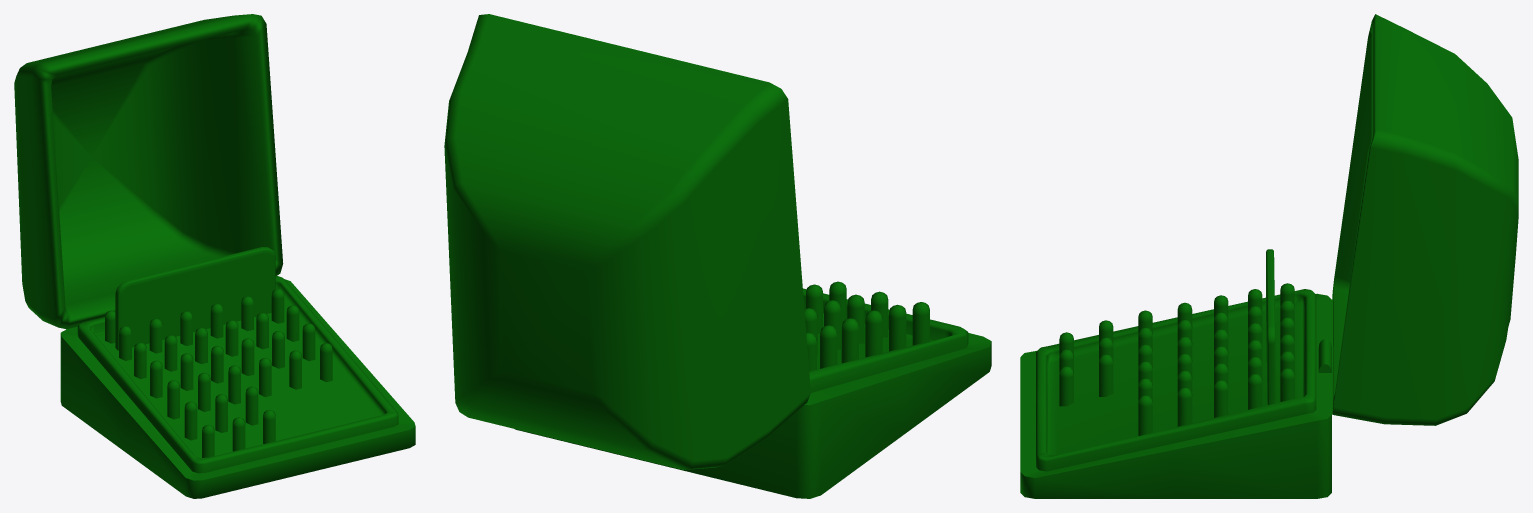
The model's file is Xay_Case.fbx.
3 views of the same model, side by side, from view 1: azimuth 30°, elevation 25°; view 2: azimuth 150°, elevation 25°; view 3: azimuth 270°, elevation 25° (orthographic). The views are drawn at different scales.
Visible parts, largest first — view 1: Xray_Case_Lid, Xay_Case, Xray_Card_02; view 2: Xray_Case_Lid, Xay_Case; view 3: Xray_Case_Lid, Xay_Case, Xray_Card_02.
Part boxes in pixels (left/top/right/bottom): Xray_Case_Lid: left=14, top=14, right=283, bottom=329; Xay_Case: left=60, top=276, right=415, bottom=498; Xray_Card_02: left=115, top=247, right=275, bottom=350; Xray_Case_Lid: left=444, top=14, right=810, bottom=469; Xay_Case: left=515, top=281, right=991, bottom=498; Xray_Case_Lid: left=1332, top=14, right=1518, bottom=425; Xay_Case: left=1020, top=283, right=1331, bottom=498; Xray_Card_02: left=1266, top=249, right=1275, bottom=404.
Bounding box in the file's own units: 16.49 × 22.01 × 27.36.
